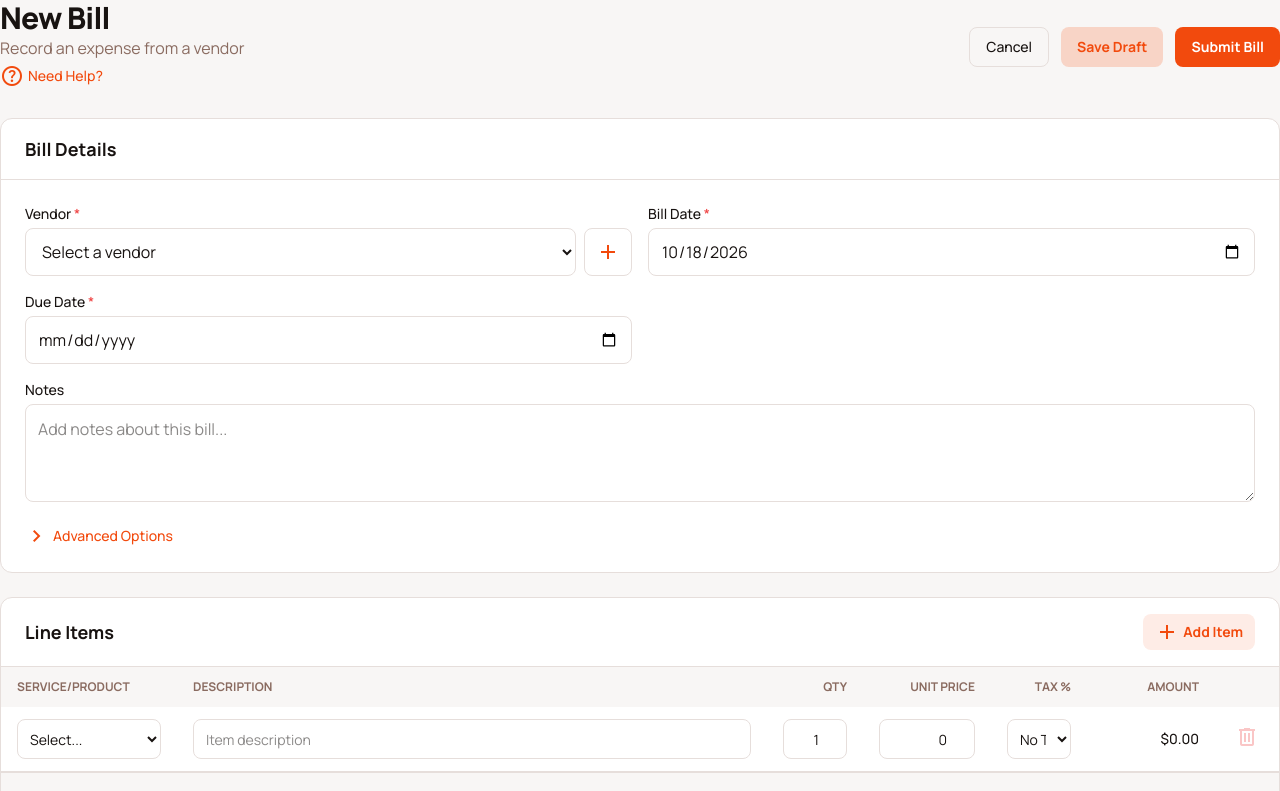
Test: BillFormPage › form validation › shows error when vendor is not selected
The image size is (1280, 791).
Note: Don't select vendor, just try to submit
What coordinates should you click on to do the following:
click the button with test id "bill-form-save-button"
I would click on:
 (1228, 47)
Its box is [1175, 27, 1279, 67].
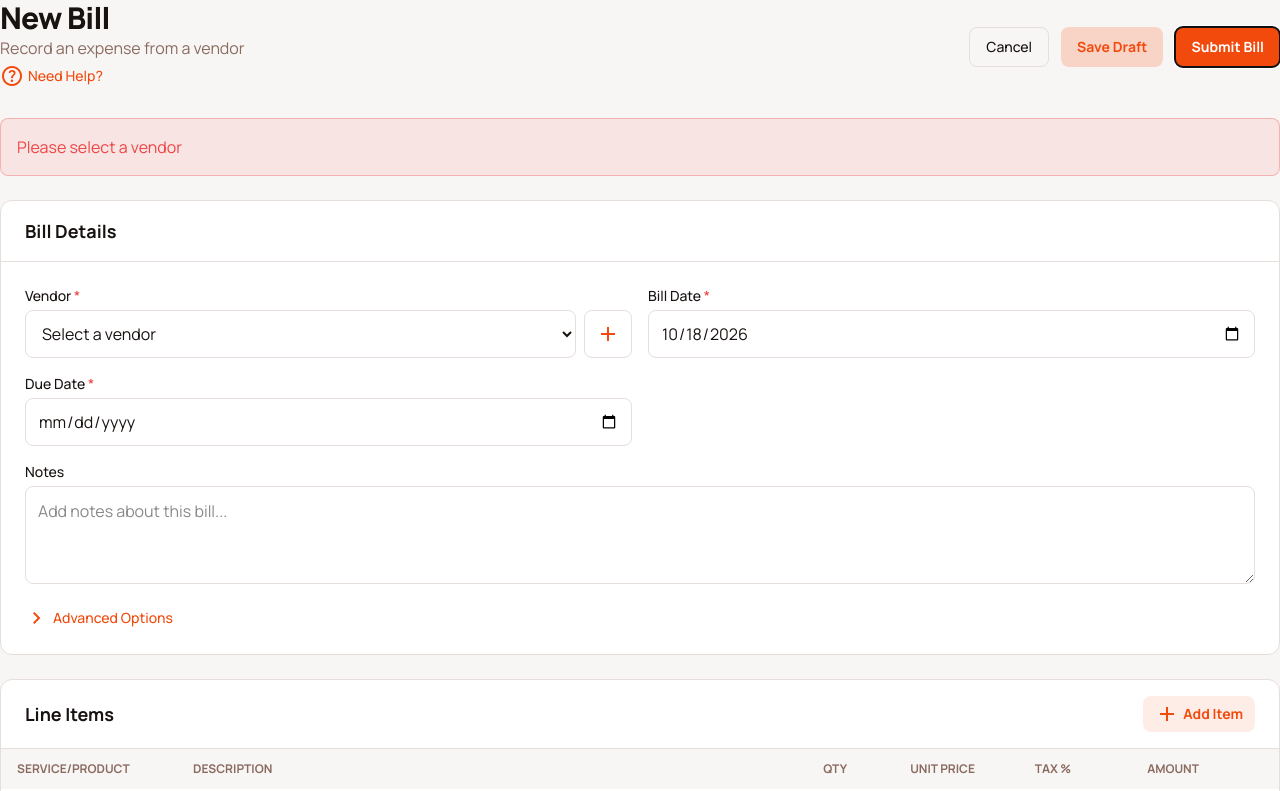
Check: the text "Please select a vendor" is shown, box [0, 118, 1279, 176]
Check: the text with test id "bill-form-error-message" shows "vendor", box [17, 136, 182, 158]
